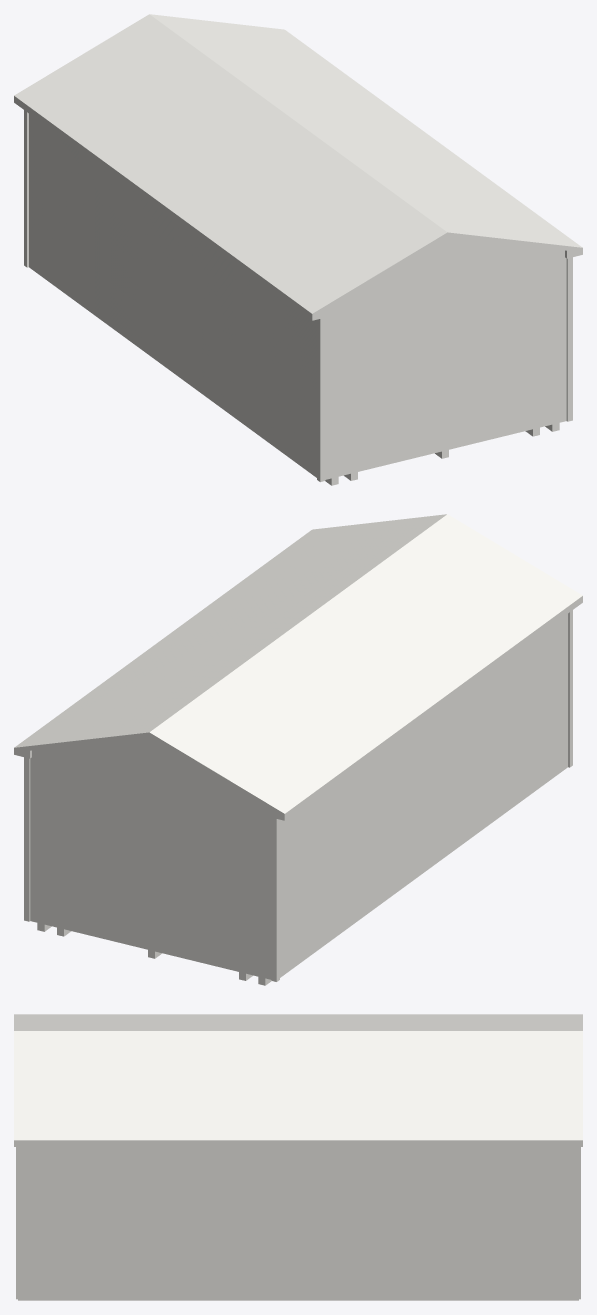
Rendered from 8 wide A-frame_7ft_12x24.obj.
3 renders of one model, top to bottom at view 1: azimuth 30°, elevation 25°; view 2: azimuth 150°, elevation 25°; view 3: azimuth 270°, elevation 25°, orthographic. The views are drawn at different scales.
Parts seen in each view (by area): view 1: Shed, Roof, Sides, Trim; view 2: Shed, Roof, Sides, Trim; view 3: Shed, Roof, Sides, Trim, Floor.
Boxes of the visible parts, box(x1,y1,x2,y2) form: Shed: box(29, 114, 566, 479); Roof: box(14, 14, 582, 313); Sides: box(14, 96, 582, 320); Trim: box(24, 110, 572, 481); Shed: box(30, 614, 567, 979); Roof: box(14, 514, 582, 813); Sides: box(14, 596, 582, 820); Trim: box(24, 610, 572, 981); Shed: box(21, 1147, 575, 1298); Roof: box(14, 1014, 582, 1140); Sides: box(14, 1140, 582, 1146); Trim: box(16, 1147, 580, 1299); Floor: box(18, 1298, 578, 1300).
Size of the model in its own units: 3.89 by 3.12 by 7.42.
